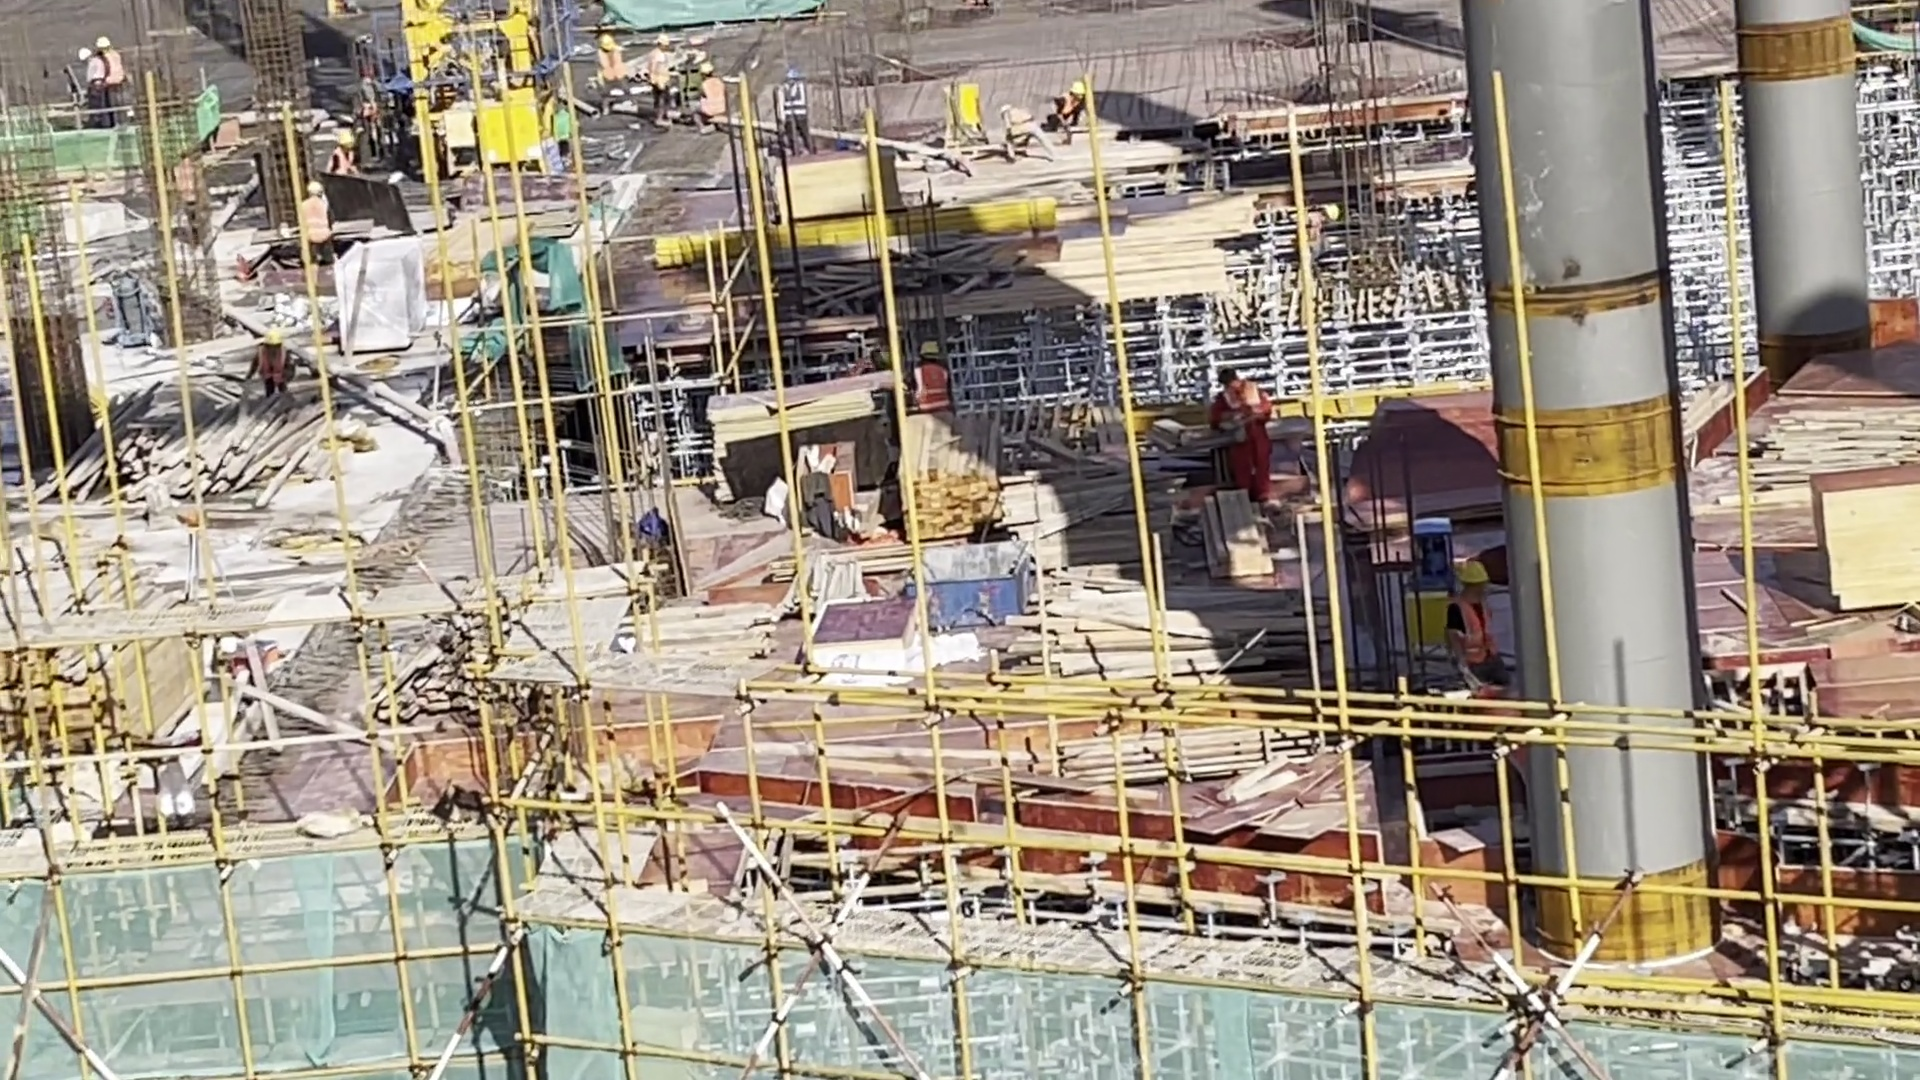board: (1195, 730, 1358, 865)
helmet: (1455, 562, 1486, 593), (910, 330, 942, 359), (694, 57, 715, 85), (72, 42, 95, 67), (1315, 204, 1338, 227), (303, 180, 324, 204), (258, 331, 281, 353), (595, 30, 616, 54), (333, 130, 353, 154), (782, 69, 801, 89), (1066, 79, 1083, 98), (92, 34, 110, 52), (655, 30, 670, 50)
hopper: (1751, 813, 1920, 948), (904, 523, 1047, 645)
person: (1423, 550, 1510, 681), (1206, 373, 1288, 506), (770, 72, 826, 159), (905, 325, 948, 419), (290, 185, 340, 265), (992, 107, 1053, 168), (644, 30, 679, 128), (690, 59, 732, 140), (244, 329, 296, 391), (1049, 80, 1097, 146), (96, 35, 134, 114), (78, 45, 111, 126), (1299, 201, 1341, 255), (595, 33, 625, 107), (317, 128, 356, 177)
vest: (1219, 387, 1290, 455), (1442, 605, 1487, 666), (912, 363, 950, 417)
wood: (96, 398, 291, 524), (1737, 378, 1920, 491), (1041, 712, 1284, 785)
